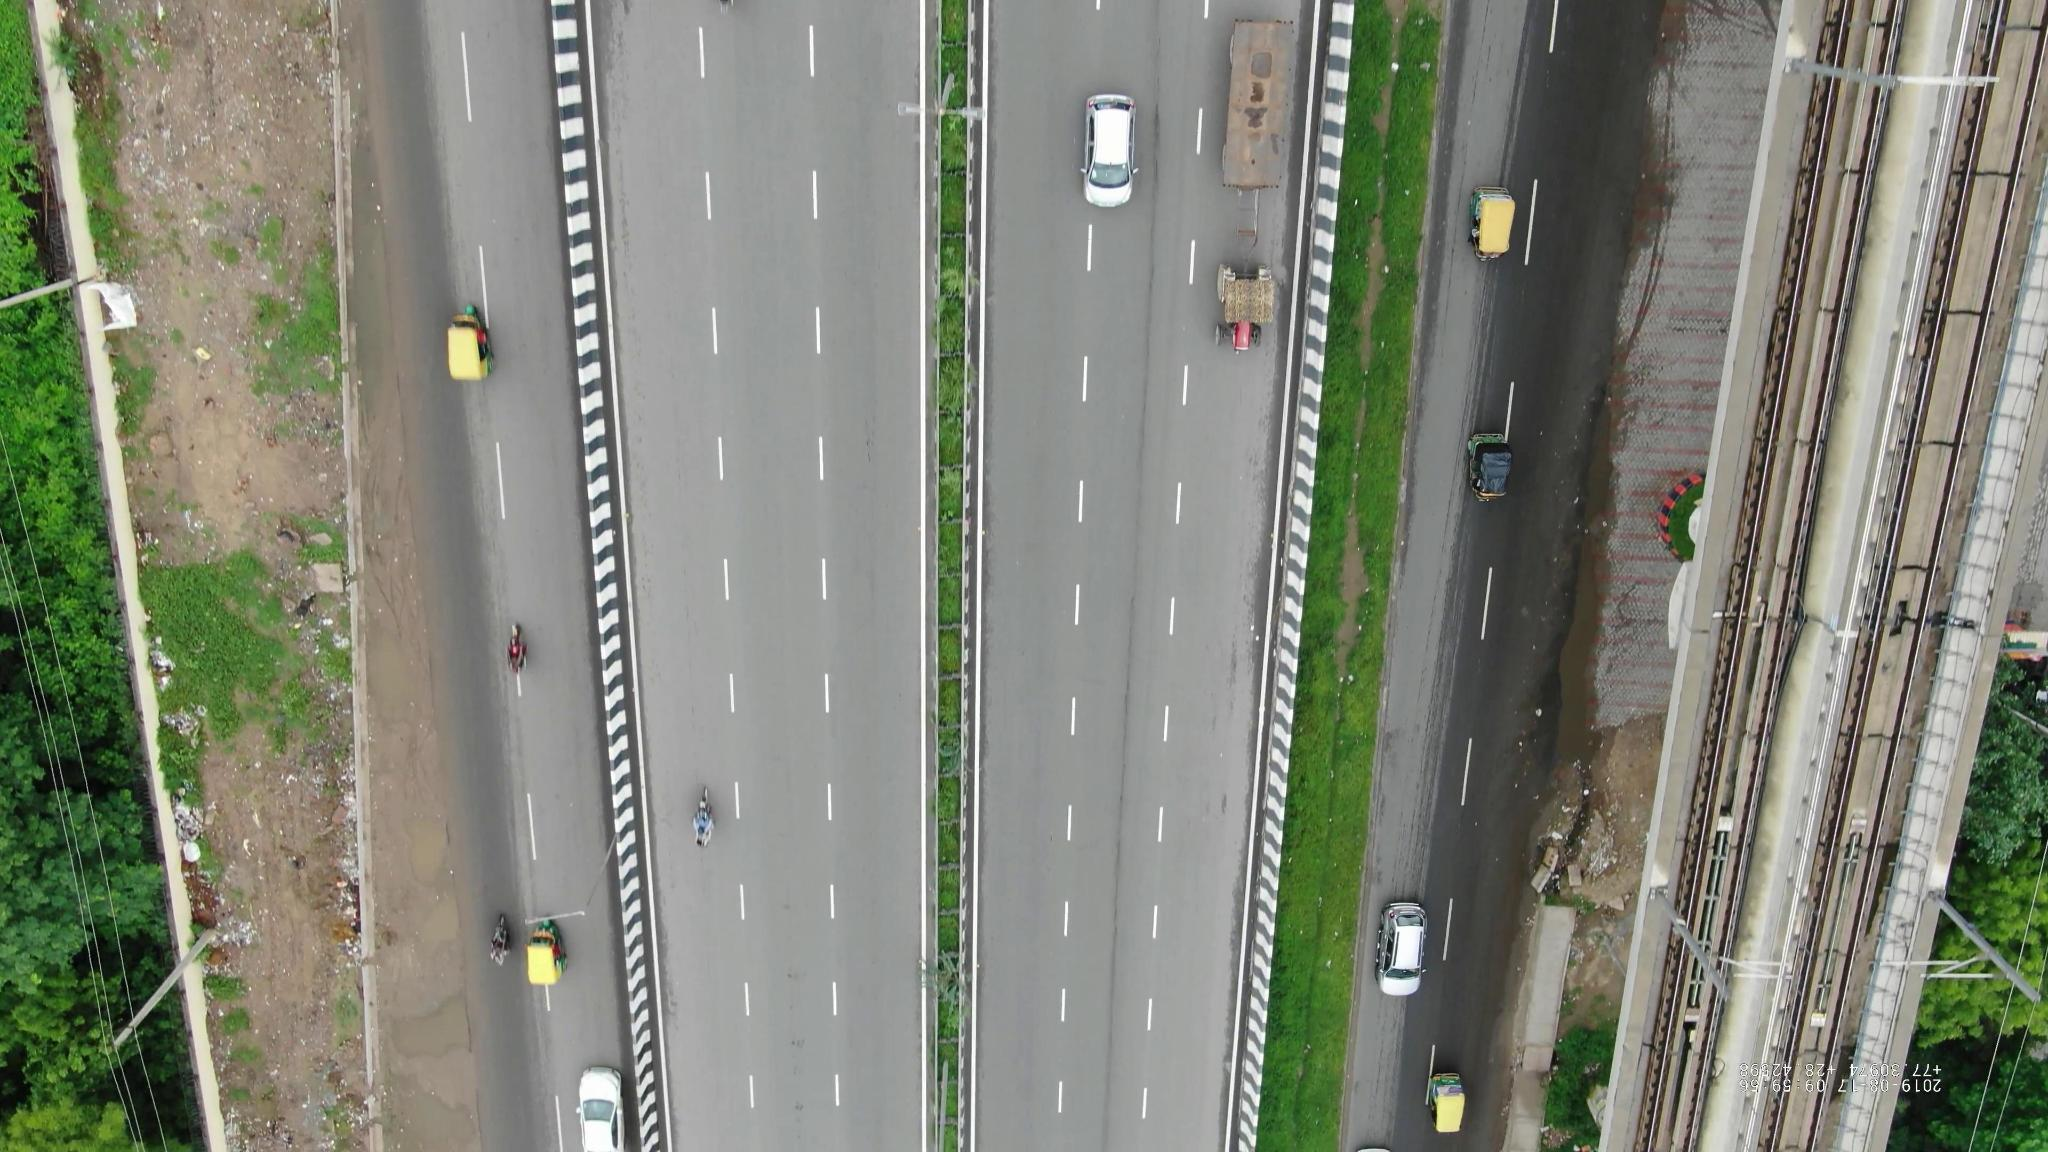Ravelling: (1099, 513, 1155, 1032), (1144, 121, 1175, 373)
Waterlogging: (367, 779, 481, 1079), (346, 124, 402, 407), (1540, 585, 1606, 741), (1560, 385, 1620, 506)
